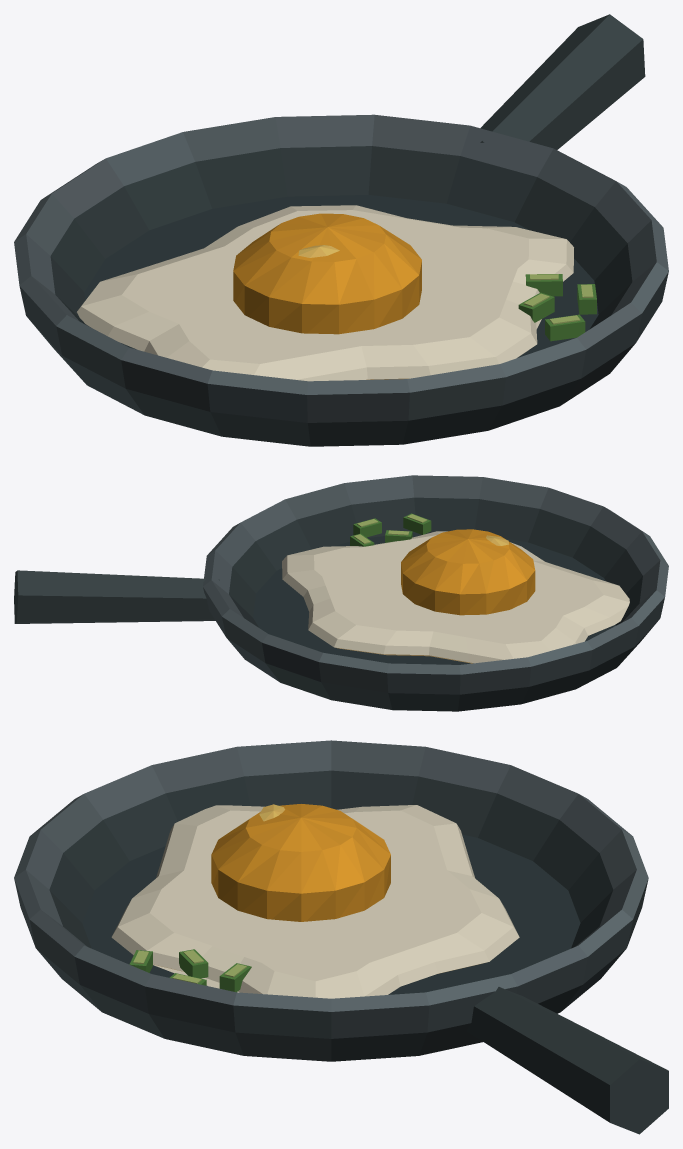
The model's file is egg_fried.glb.
3 renders of one model, top to bottom at view 1: azimuth 30°, elevation 25°; view 2: azimuth 150°, elevation 25°; view 3: azimuth 270°, elevation 25°, orthographic. The views are drawn at different scales.
Parts seen in each view (by area): view 1: 小铁锅太阳蛋与葱花; view 2: 小铁锅太阳蛋与葱花; view 3: 小铁锅太阳蛋与葱花.
Part boxes in pixels (x1=…): 小铁锅太阳蛋与葱花: x1=14, y1=14, x2=668, y2=446; 小铁锅太阳蛋与葱花: x1=14, y1=475, x2=668, y2=711; 小铁锅太阳蛋与葱花: x1=14, y1=740, x2=668, y2=1134.
Bounding box in the file's own units: 0.6225 × 0.105 × 0.4994.
